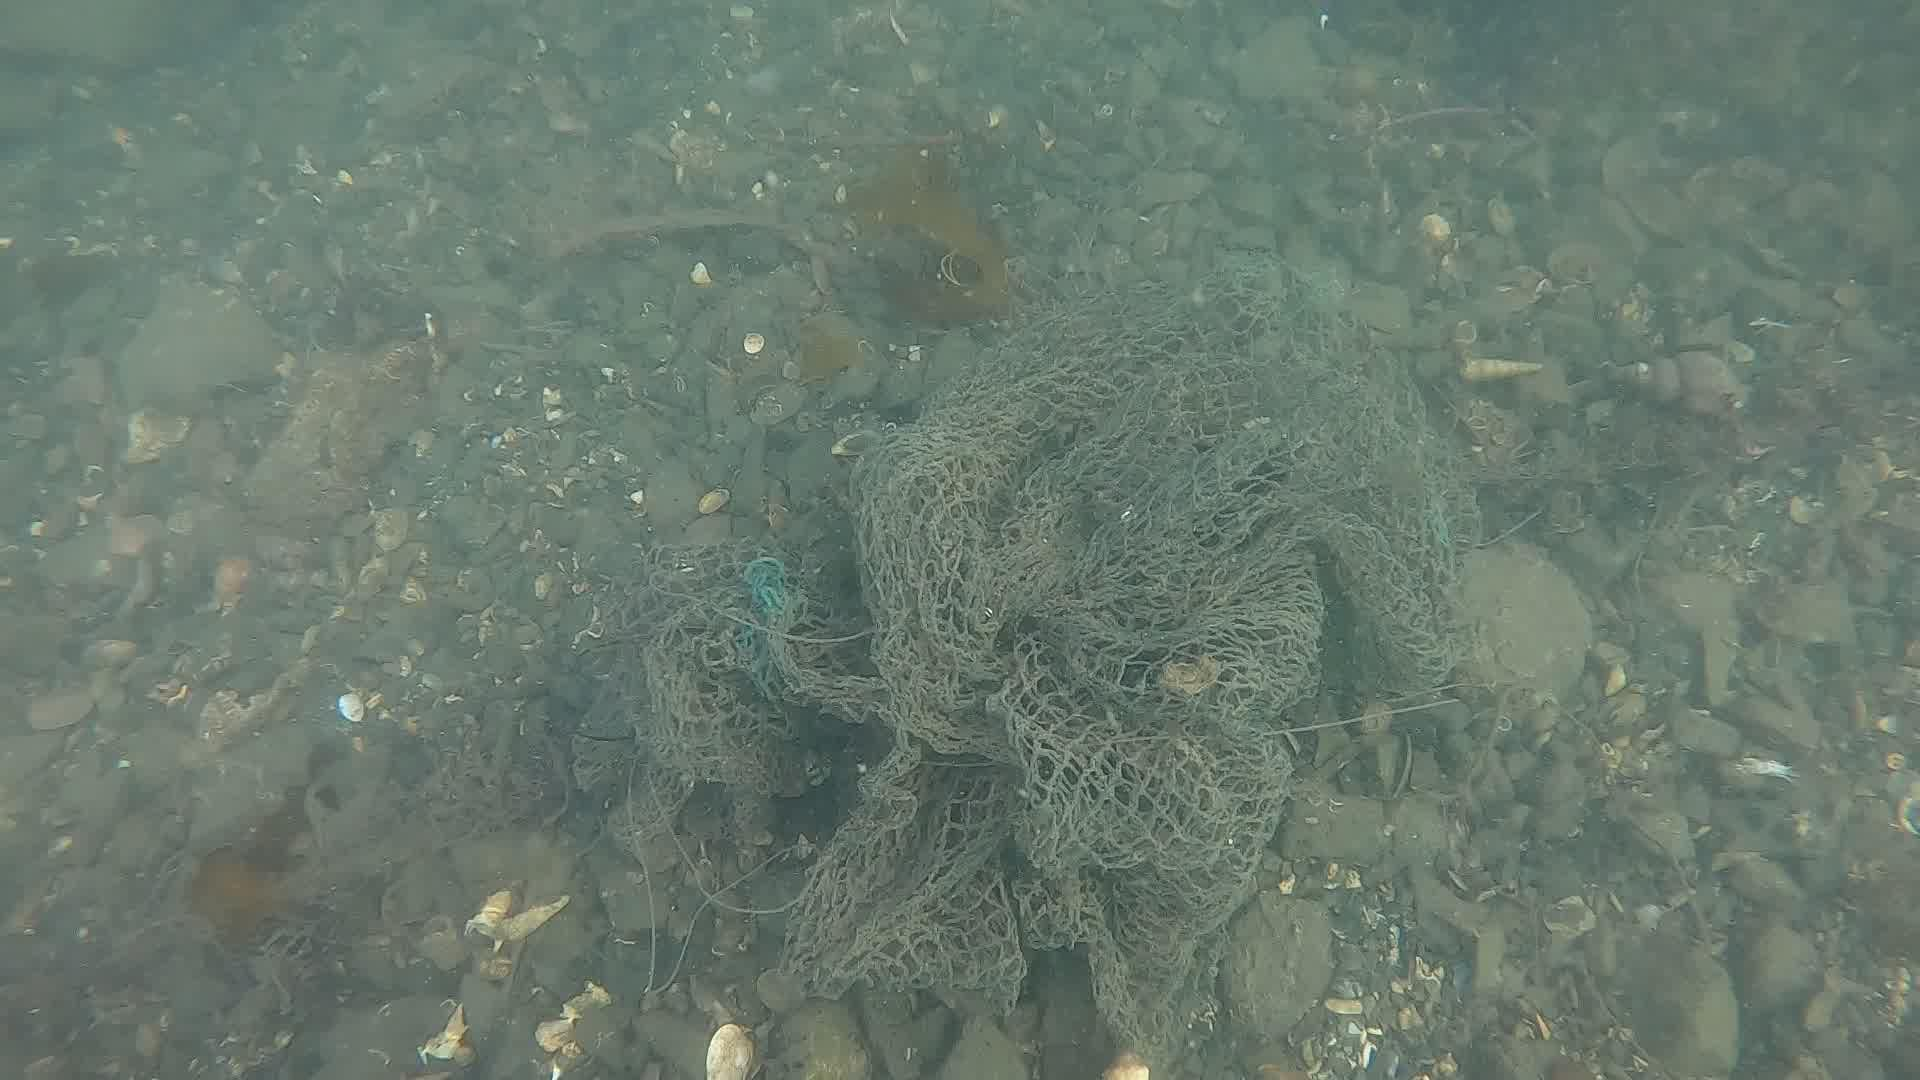fish net: (653, 284, 1457, 986)
